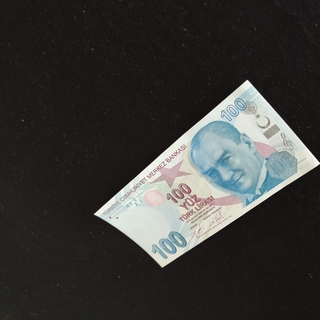100TLFront: (93, 79, 320, 269)
